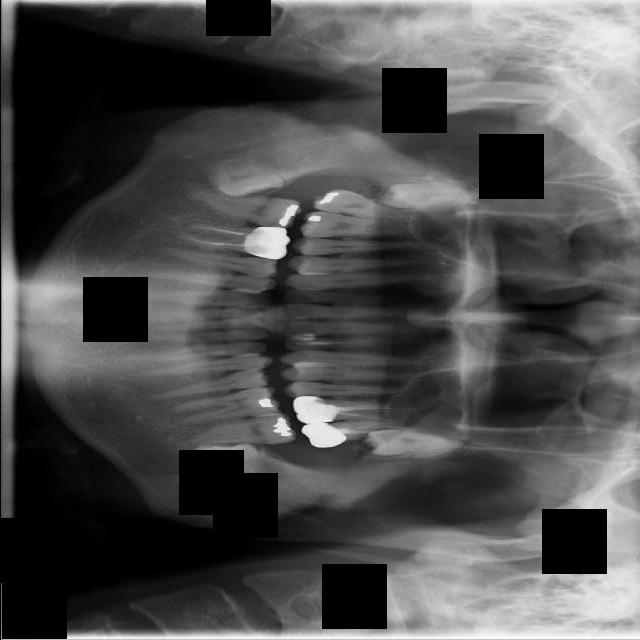3M ESPE Implant: (377, 182, 469, 209)
52: (254, 188, 304, 241), (242, 221, 292, 262), (252, 409, 296, 447), (308, 186, 361, 217), (241, 382, 281, 420), (298, 420, 347, 450), (297, 208, 334, 241), (291, 394, 325, 426), (276, 302, 311, 321), (276, 320, 315, 337), (284, 334, 316, 351)
73: (177, 215, 260, 255), (328, 415, 406, 443), (318, 398, 394, 425), (313, 335, 389, 349), (54, 554, 62, 558)
BioHorizons Implant: (298, 414, 408, 451)
BioLife Implant: (362, 427, 465, 457)
Biomet 3i Implant: (194, 441, 261, 484)
Blue Sky Bio Implant: (184, 412, 296, 451)
Caries: (309, 186, 423, 226)
Implant: (179, 182, 304, 233)
Keystone Dental Implant: (207, 156, 285, 199)
